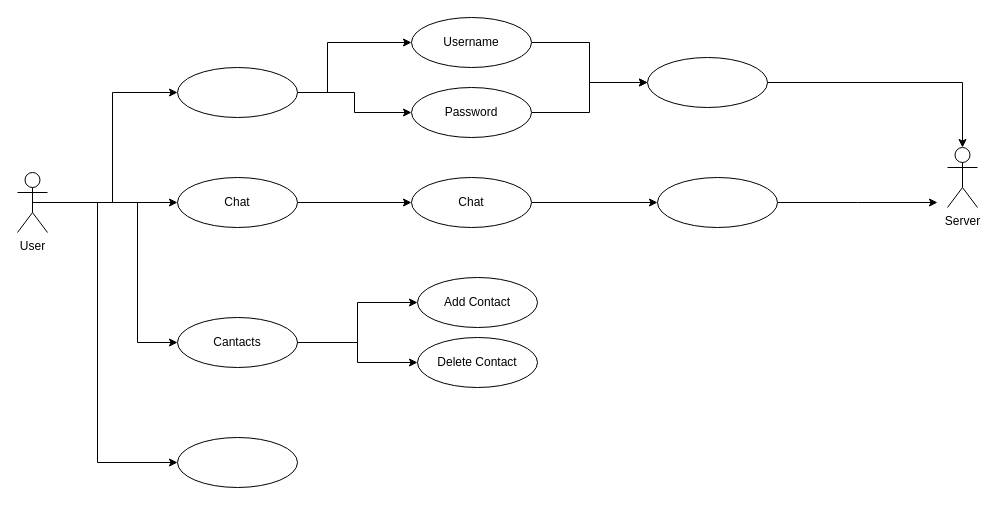
Some shapes in this 997 by 505 pixel diagram are drawn without their labels. The centre of each missing label's shape, as x and y in pixels:
Authenticate: the point at 707,82
Chat histori: the point at 717,202
Login: the point at 237,92
Update Status: the point at 237,462
